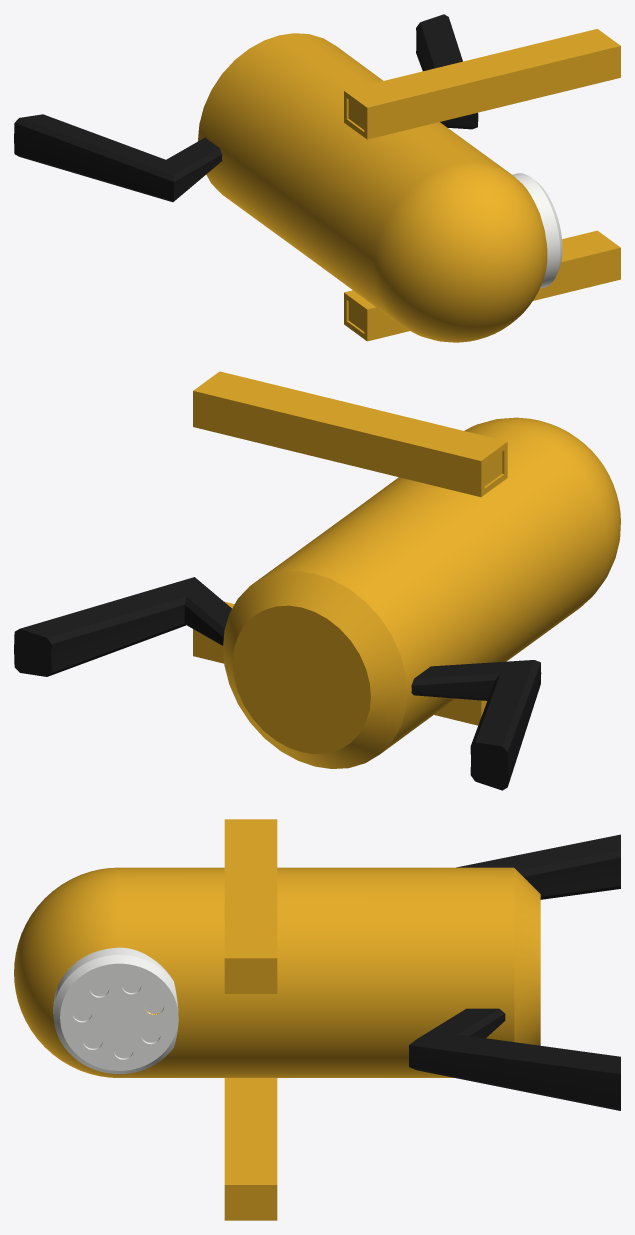
Rendered from Crewmate #7.fbx.
3 views of the same model, one above another, from view 1: azimuth 30°, elevation 25°; view 2: azimuth 150°, elevation 25°; view 3: azimuth 270°, elevation 25° (orthographic). The views are drawn at different scales.
Parts seen in each view (by area): view 1: Body1, Body3, Body5, Body4, Body6, Body2; view 2: Body1, Body3, Body6, Body5, Body4; view 3: Body1, Body2, Body6, Body3, Body4, Body5.
Boxes of the visible parts, x1,y1,x2,y2 form: Body1: (198,33,547,342); Body3: (344,29,620,139); Body5: (14,114,222,202); Body4: (344,230,620,341); Body6: (416,14,478,129); Body2: (512,173,562,288); Body1: (223,417,620,768); Body3: (193,371,507,496); Body6: (14,577,231,676); Body5: (411,660,541,790); Body4: (193,601,487,725); Body1: (14,867,540,1077); Body2: (53,947,178,1074); Body6: (409,1008,620,1110); Body3: (224,819,277,993); Body4: (224,1078,277,1220); Body5: (456,834,620,899).
Bounding box in the file's own units: 2145 × 1100 × 2306.
